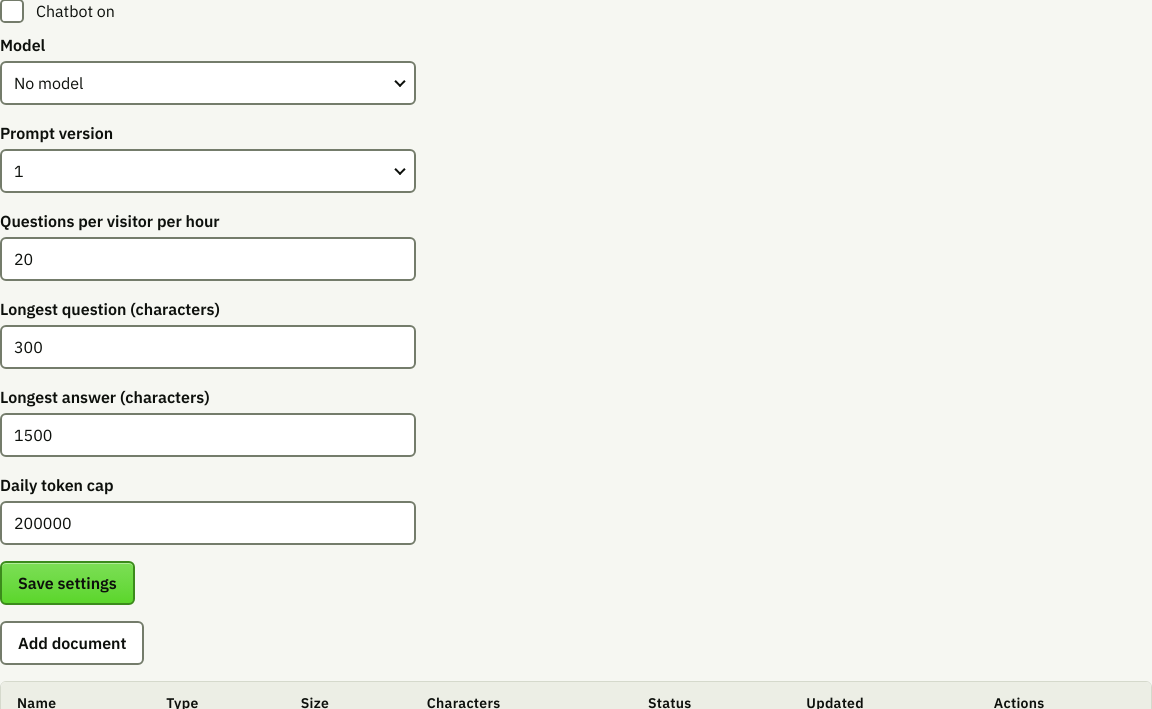
chatbot admin page › asks for a file before adding
The width and height of the screenshot is (1152, 709).
Click the button "Add document" at (72, 643), box [0, 621, 144, 665]
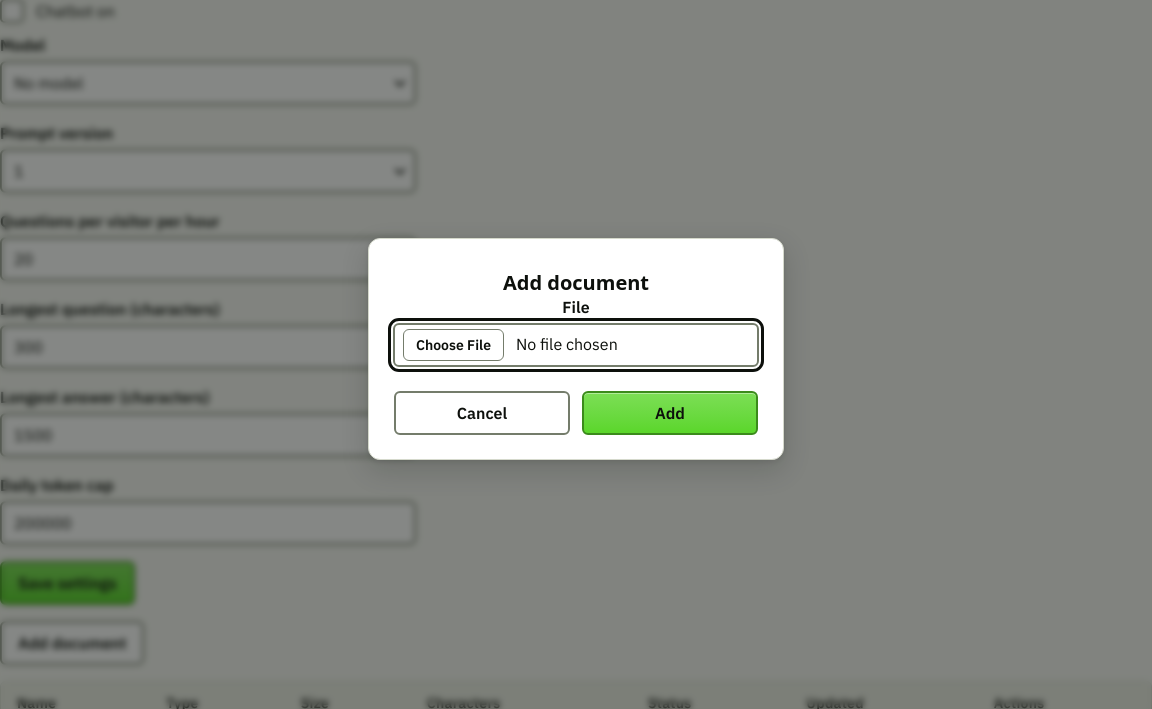
Click the button "Add" at (670, 413), box [582, 391, 758, 435]
(page scrolled)
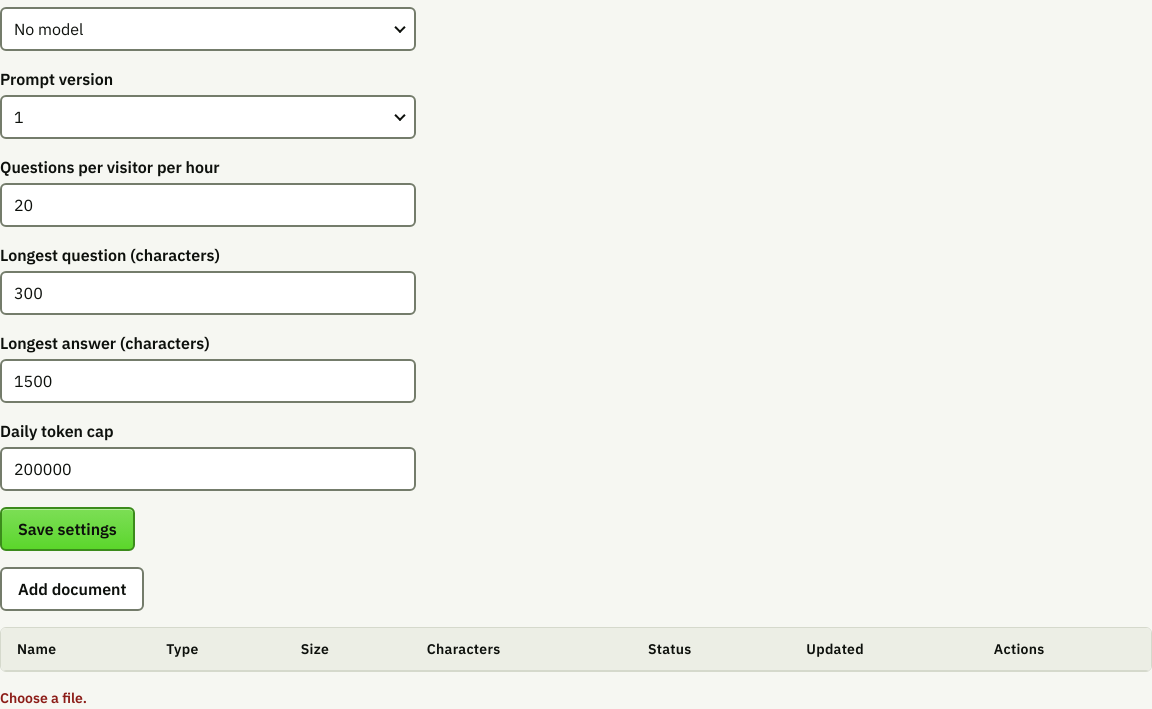
Check: the text "Choose a file." is shown, box [0, 689, 87, 707]
